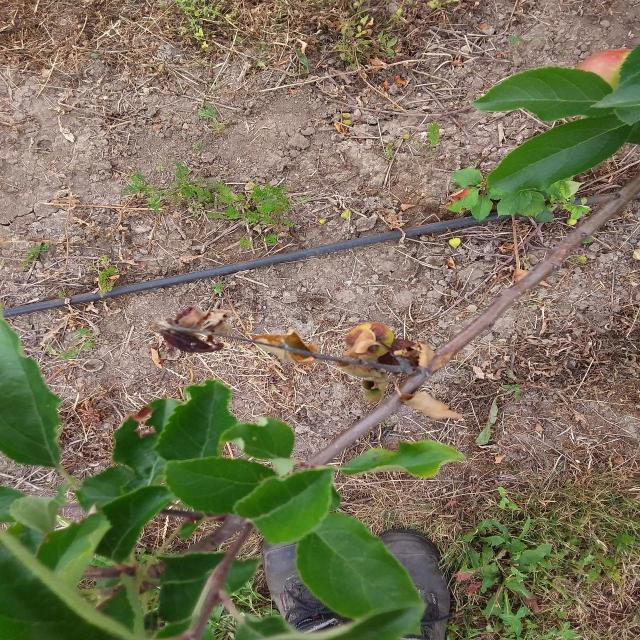-FireBlight-: (352, 322, 459, 419), (156, 308, 223, 350), (260, 329, 320, 364)
